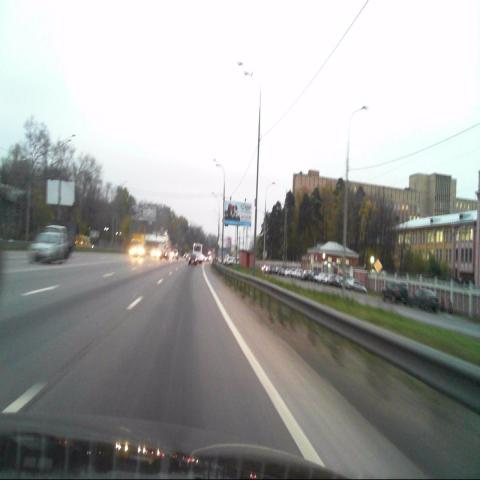2_1: (374, 260, 382, 273)
